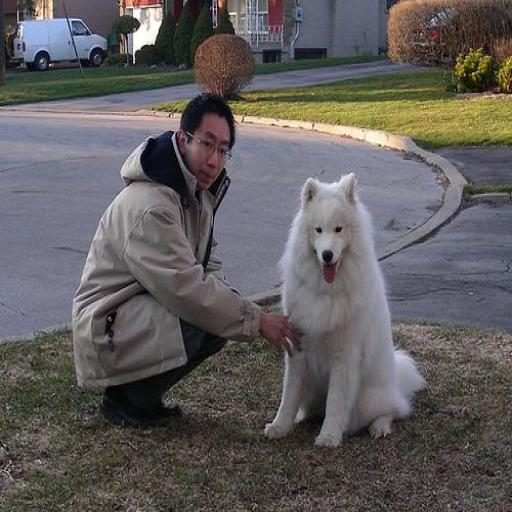dog_face: (299, 172, 363, 277)
